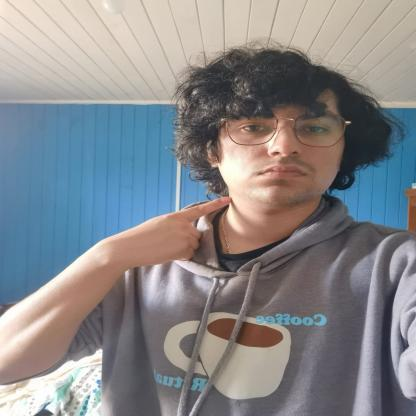Q: (106, 194, 235, 264)
